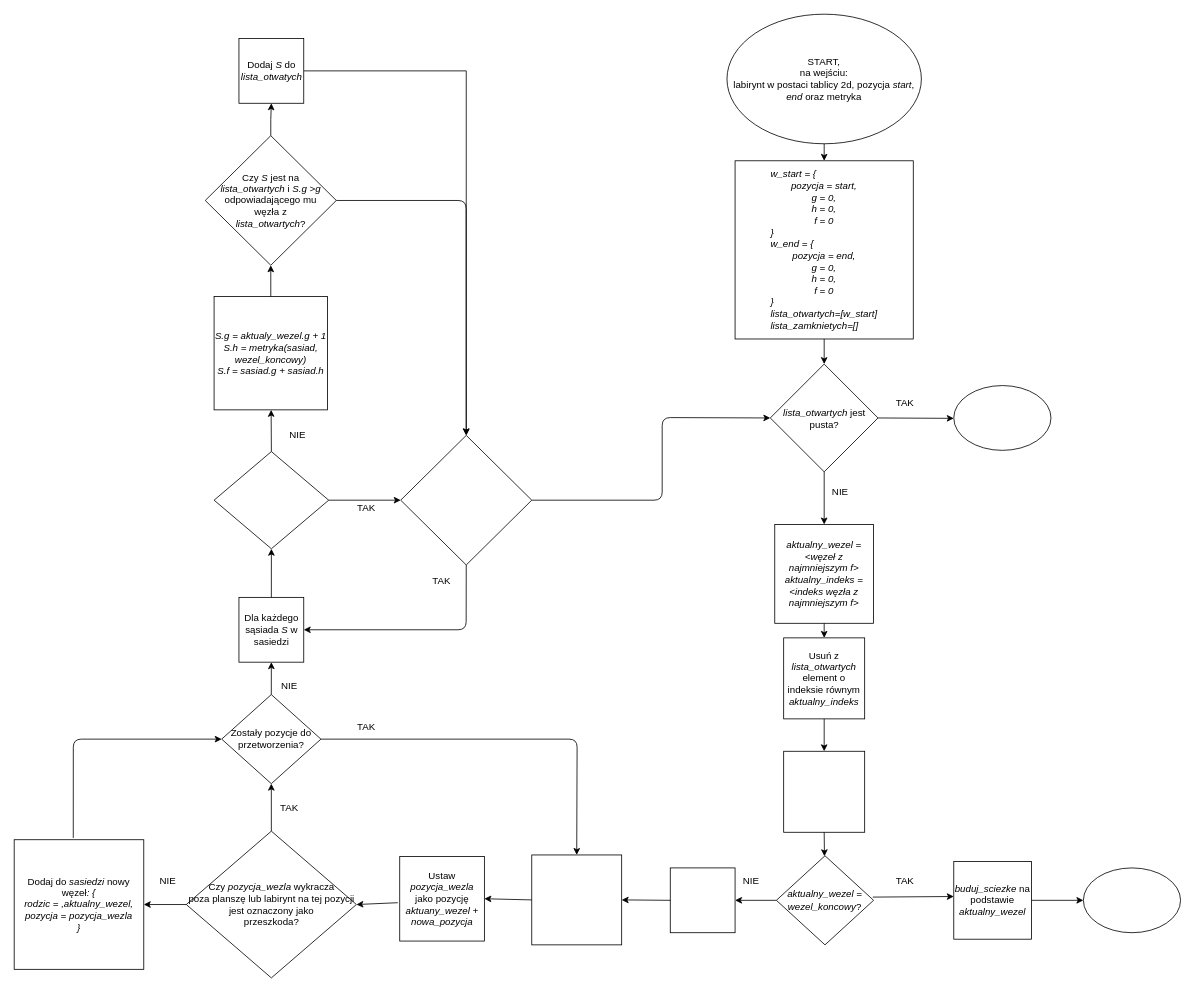
Some shapes in this 1195 by 992 pixel diagram are drawn without their labels. The shapes that lost their labels are listed below. From the top down, each one's centre as x and y in pixels, then its label:
[1002,417]: KONIEC, brak ścieżki - zwróć None
[271,500]: Czy S należy do lista_zamknietych ?
[466,500]: Czy zostali sąsiedzi do przetworzenia?
[824,791]: Dodaj do listy_zamknietych aktualny_wezel
[576,899]: Dla każdej pozycji w zbiorze(0, -1), (0, 1), (-1, 0), (1, 0) jako nowa_pozycja
[702,900]: sasiedzi = []
[1132,900]: KONIEC, zwróć zbudowaną ścieżkę
